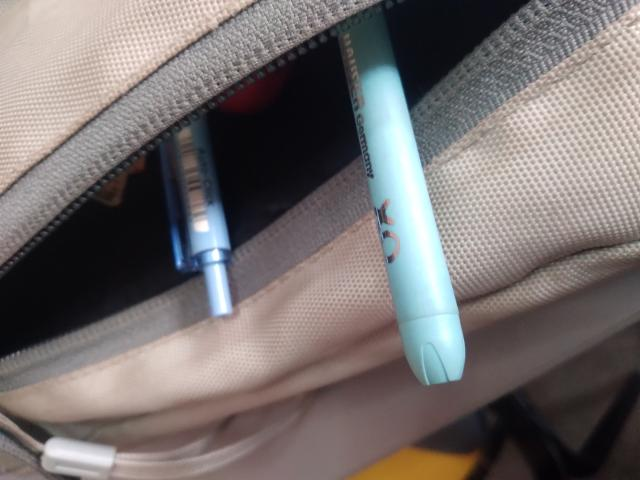PEN: (85, 336, 480, 477), (142, 159, 360, 241)
